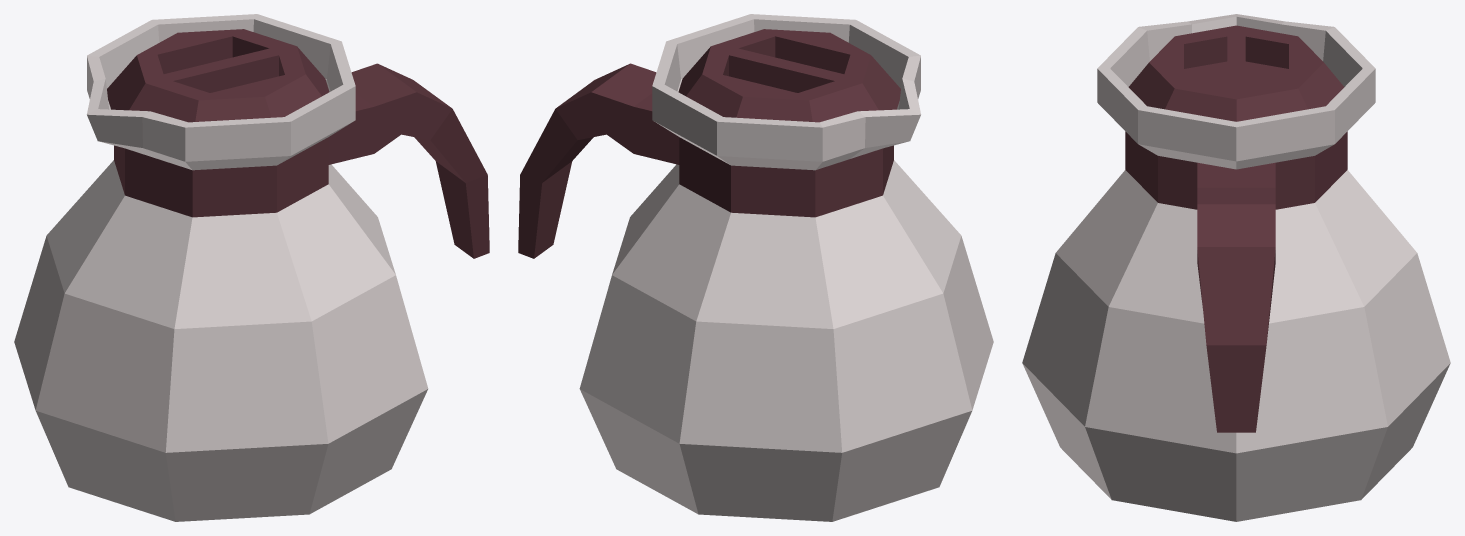
File: pot-coffee-empty.fbx
The picture shows the model from 3 angles, left to right: view 1: azimuth 30°, elevation 25°; view 2: azimuth 150°, elevation 25°; view 3: azimuth 270°, elevation 25°; orthographic projection.
Parts seen in each view (by area): view 1: pot-coffee-empty; view 2: pot-coffee-empty; view 3: pot-coffee-empty.
Part boxes in pixels (box(x1,y1,x2,y2)): pot-coffee-empty: box(14, 14, 489, 521); pot-coffee-empty: box(518, 14, 993, 521); pot-coffee-empty: box(1022, 14, 1450, 521).
Bounding box in the file's own units: 0.2066 × 0.1897 × 0.1726.
